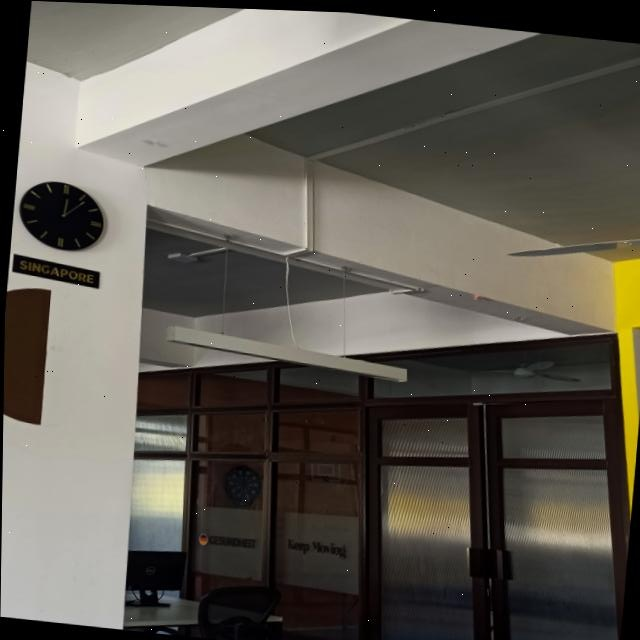fluorescent tube: (155, 320, 411, 386)
